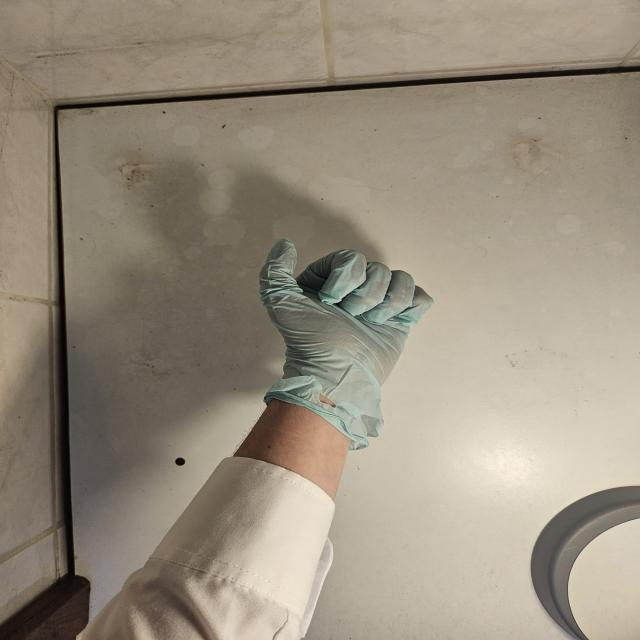gloves_damaged: (258, 238, 433, 448)
